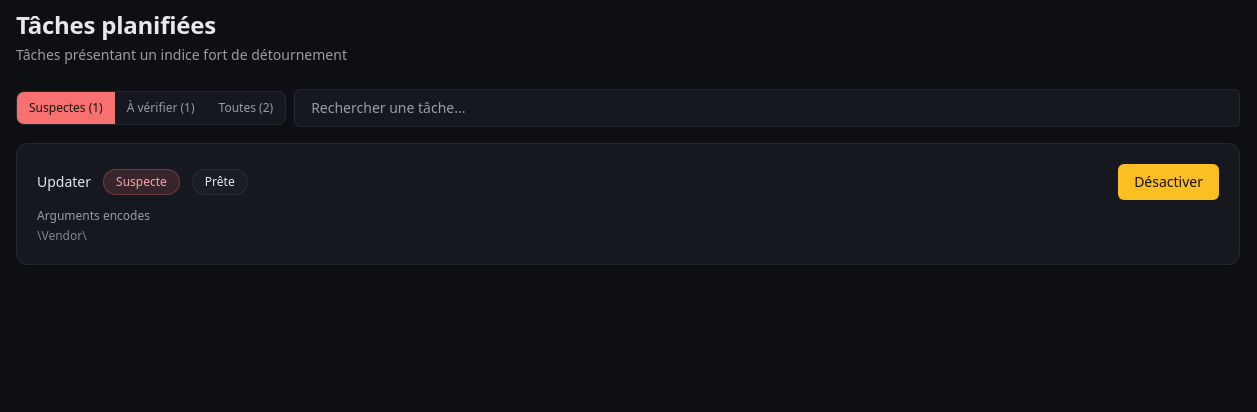
it: TasksPage niveaux de signalement › distingue une recherche sans résultat d'un planificateur vide
Click the button "Toutes (2)" at (246, 108), box [207,92,285,124]
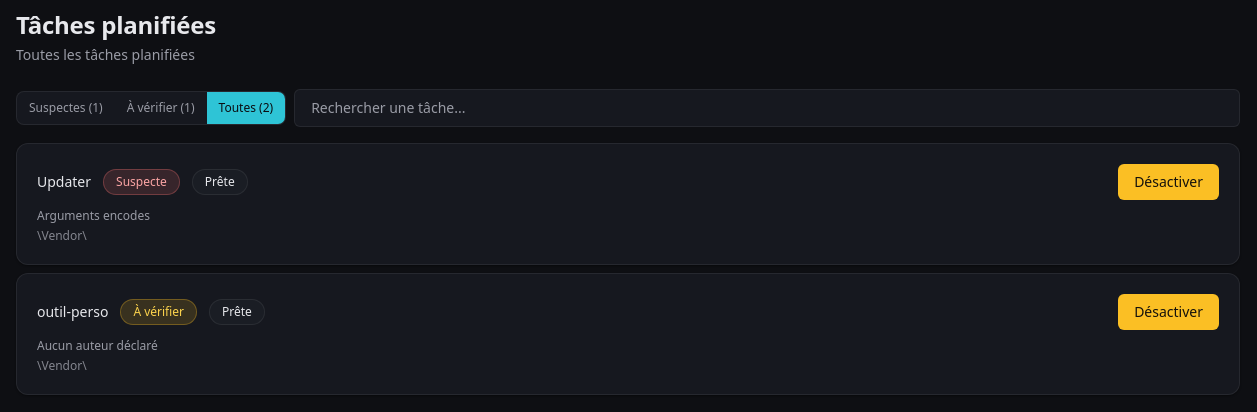
Type "zzzzz" into the search field with placeholder "Rechercher une tâche..." at (767, 108), box [294,89,1240,127]
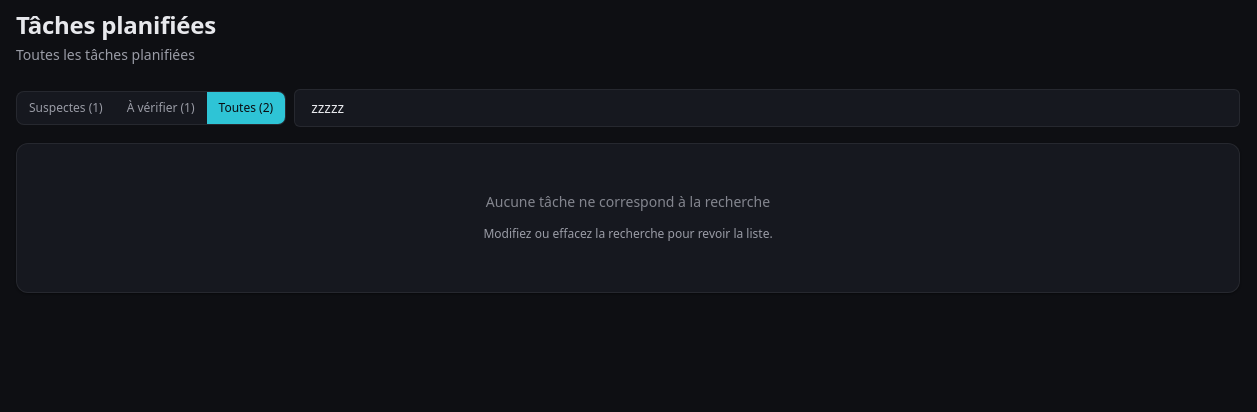
Result: the text "Aucune tâche ne correspond à la recherche" is shown at [486,192,770,212]
